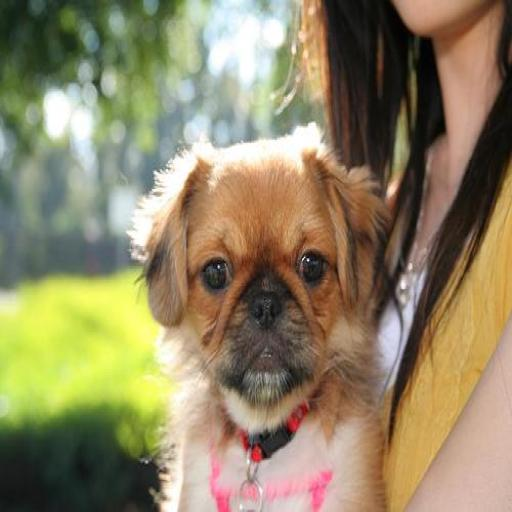dog_face: (133, 143, 367, 394)
